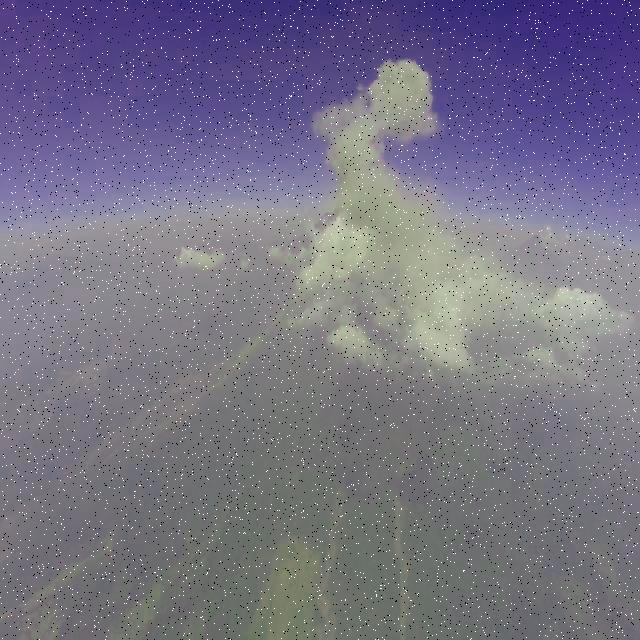Plume: (307, 58, 448, 288)
